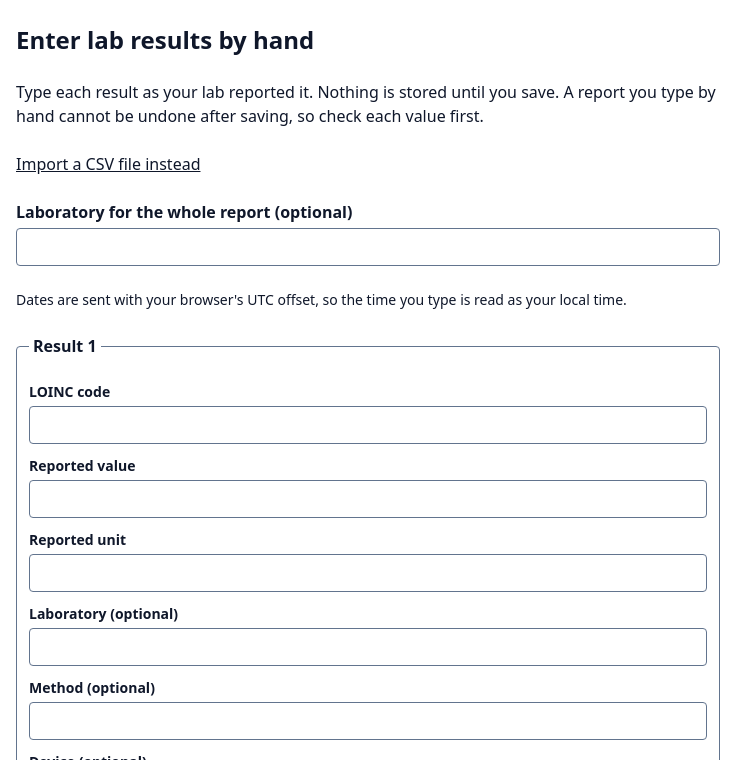
a 400 on result 1 is shown on row 2 and the inputs are kept
Type "0000-0" into the field labelled "LOINC code". click: (368, 425)
box: [29, 406, 707, 444]
Type "1" into the field labelled "Reported value". click: (368, 499)
box: [29, 480, 707, 518]
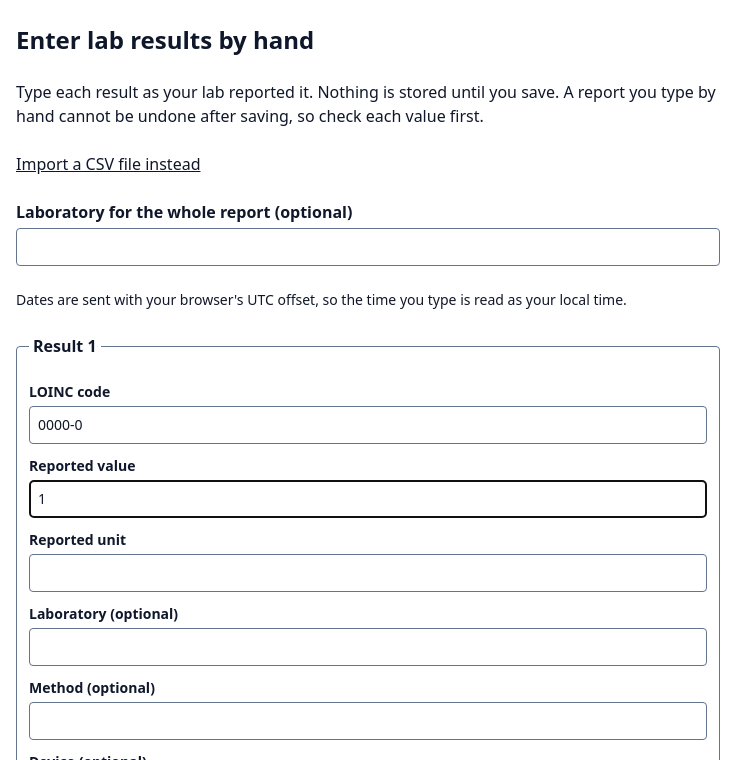
Type "xa/L" into the field labelled "Reported unit". click: (368, 573)
box: [29, 554, 707, 592]
(page scrolled)
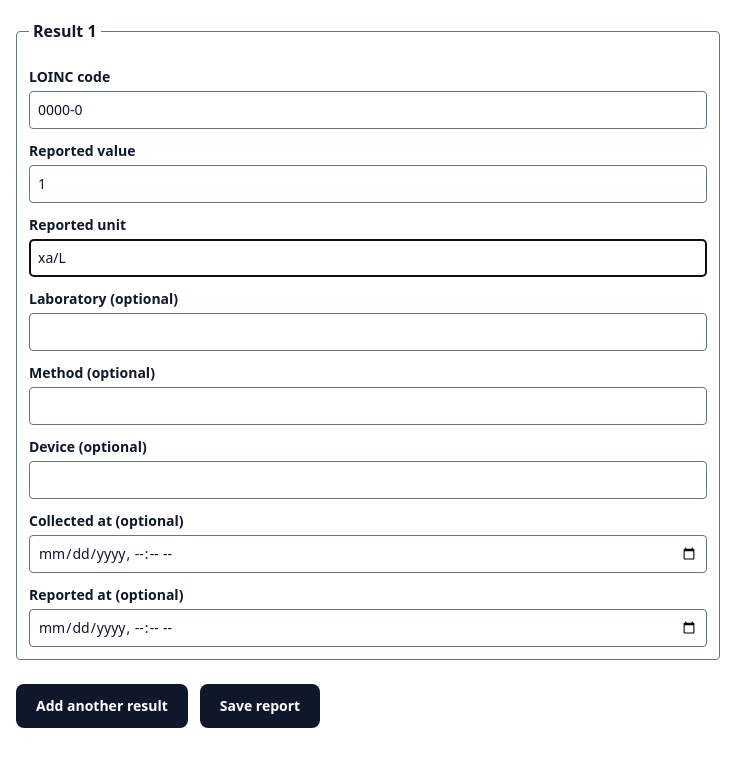
Click the button "Add another result". click: (102, 706)
box: [16, 684, 188, 728]
(page scrolled)
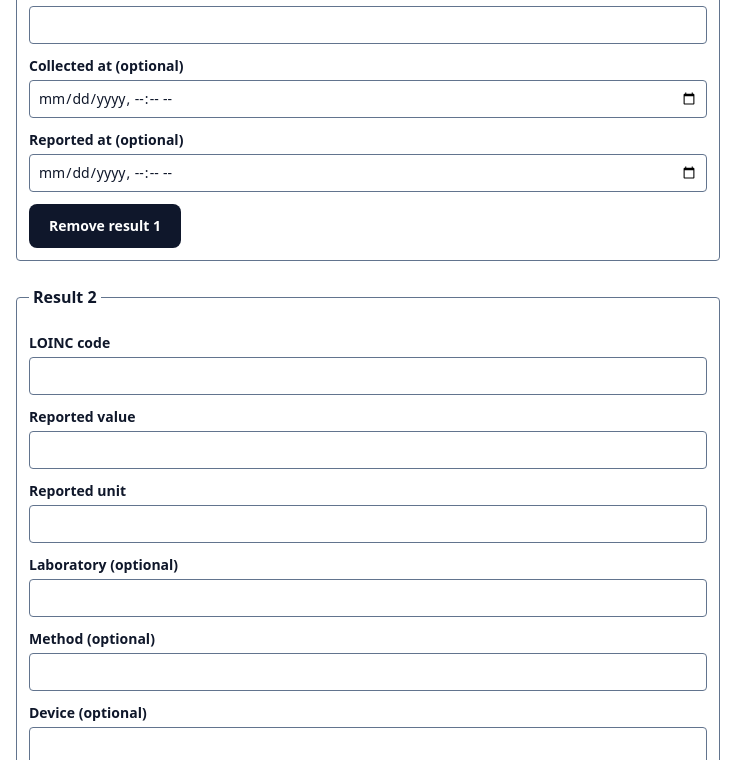
Type "0000-1" into the field labelled "LOINC code". click: (368, 376)
box: [29, 357, 707, 395]
Type "2.1234567" into the field labelled "Reported value". click: (368, 450)
box: [29, 431, 707, 469]
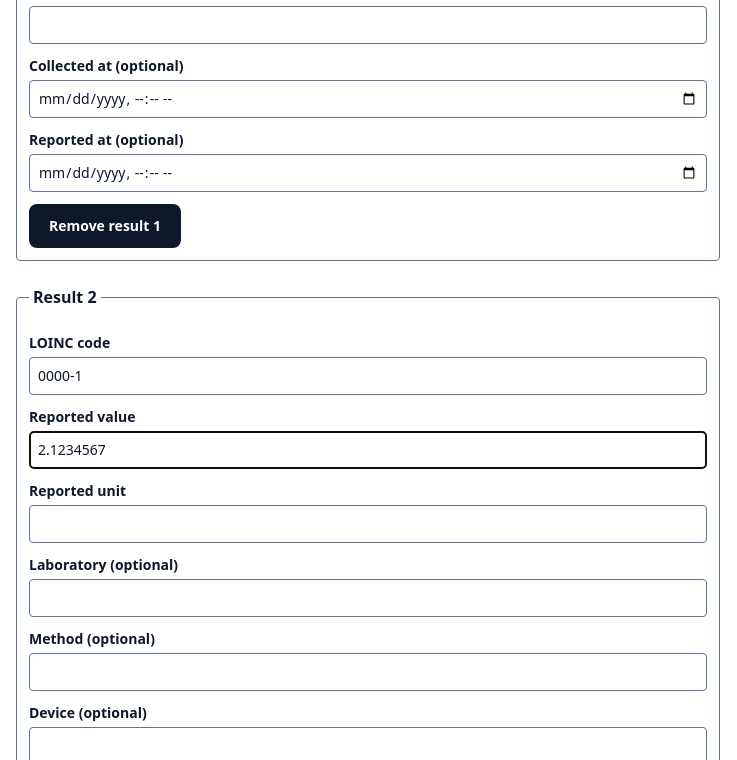
Type "xa/L" into the field labelled "Reported unit". click: (368, 524)
box: [29, 505, 707, 543]
(page scrolled)
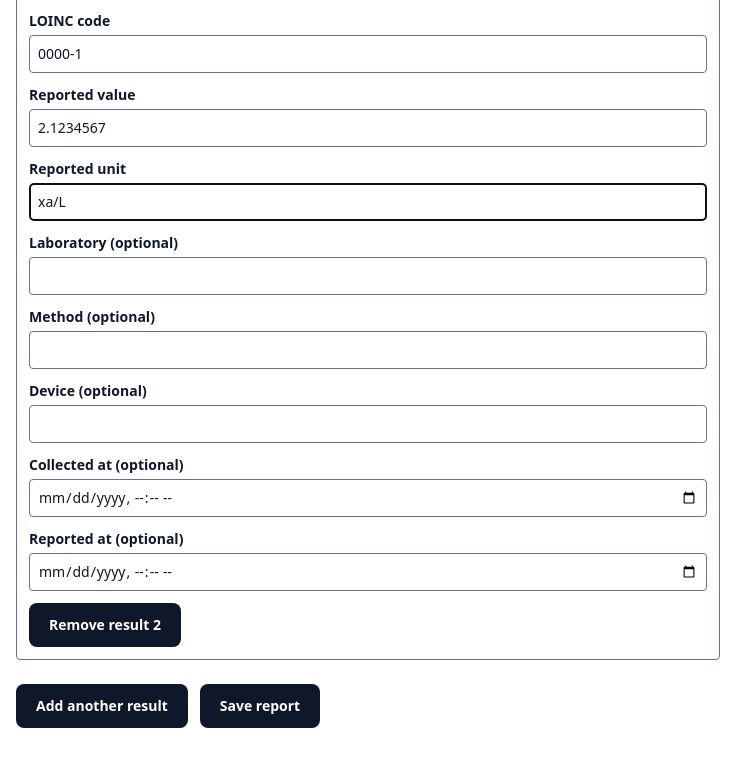
Click the button "Save report". click: (260, 706)
box: [200, 684, 320, 728]
(page scrolled)
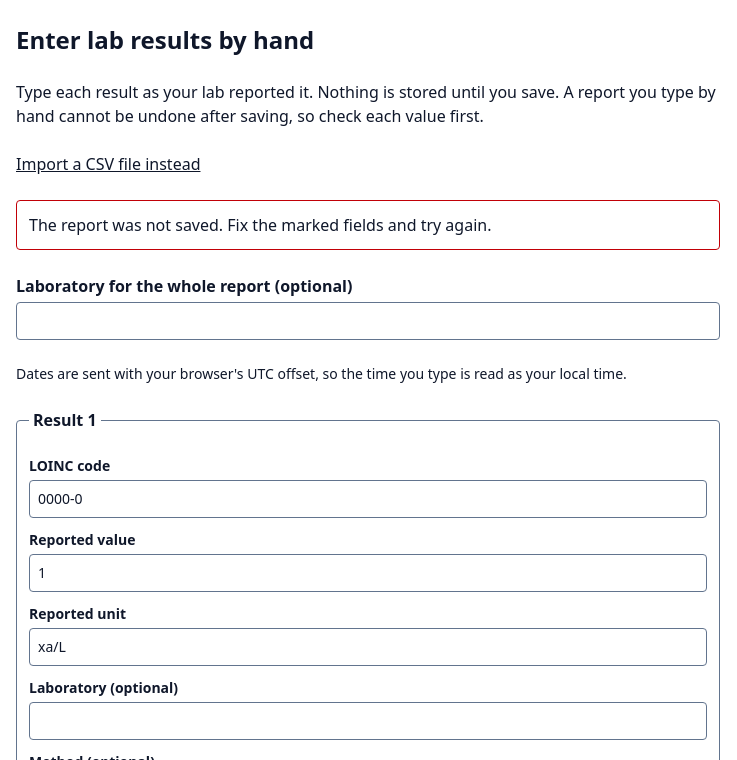
Expected: the message shows "was not saved", [29, 214, 491, 236]
